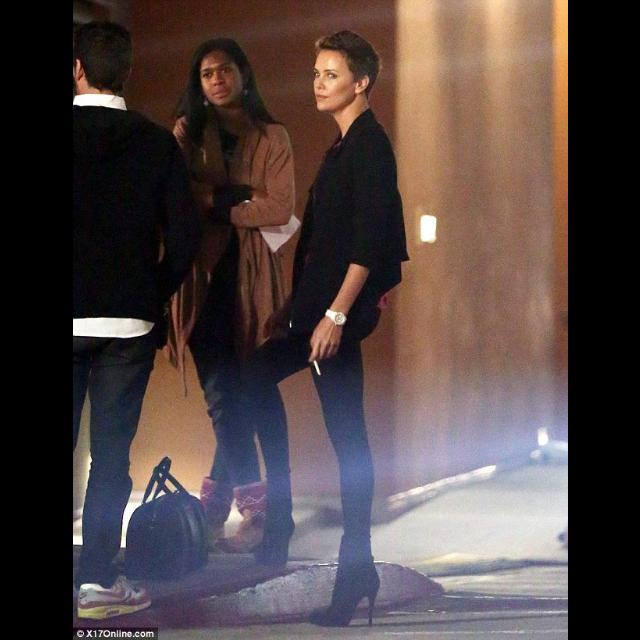rokok: (308, 354, 324, 378)
